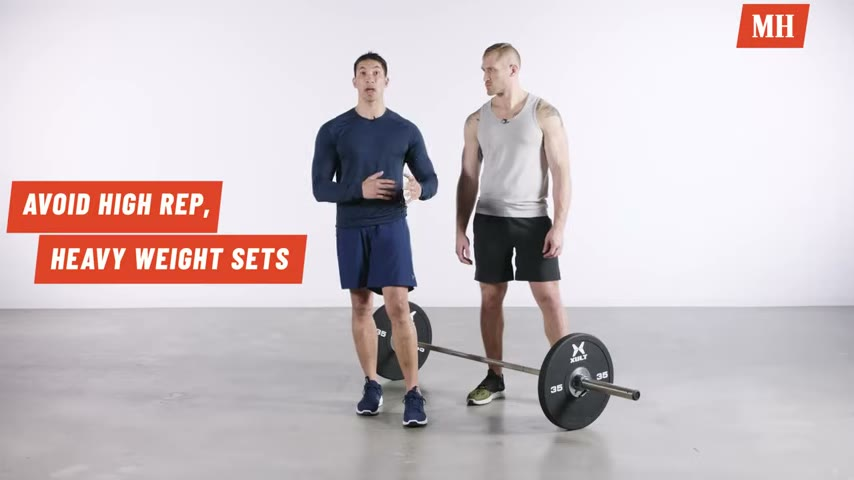barbell_plate_side: (579, 331, 643, 442)
